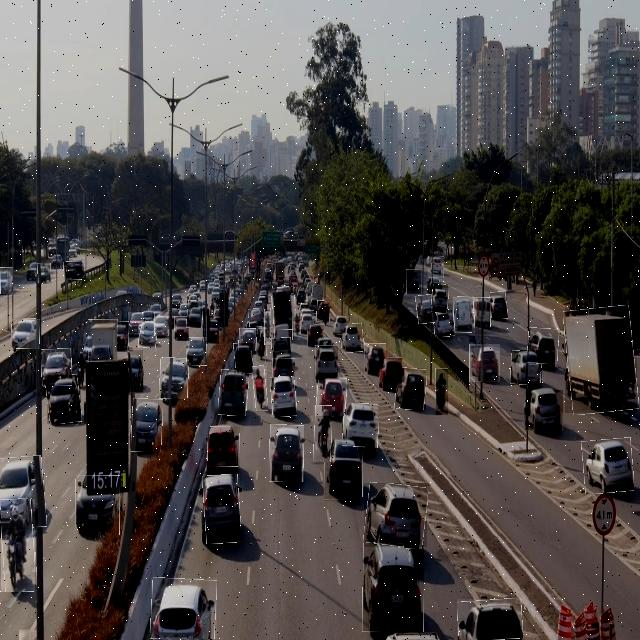Car: (363, 541, 424, 632), (364, 483, 427, 548), (151, 578, 217, 640), (0, 456, 45, 528), (582, 438, 633, 493), (76, 475, 120, 538), (457, 599, 522, 640), (203, 474, 240, 544), (324, 439, 363, 502), (270, 425, 304, 482), (47, 375, 81, 424), (525, 389, 563, 431), (132, 399, 162, 452), (343, 403, 378, 448), (220, 369, 248, 416), (208, 426, 240, 467), (395, 368, 426, 409), (316, 377, 347, 416), (160, 358, 189, 399), (469, 344, 500, 382), (528, 327, 559, 364), (42, 349, 72, 386), (511, 350, 542, 385), (270, 287, 295, 329), (271, 377, 297, 417), (12, 319, 40, 349), (315, 345, 338, 380), (453, 297, 475, 333), (364, 343, 386, 376), (379, 357, 402, 388), (340, 324, 364, 352), (416, 294, 437, 324), (129, 349, 143, 392), (234, 343, 253, 374), (187, 337, 207, 366), (473, 297, 491, 328), (434, 311, 455, 337), (272, 358, 295, 381), (138, 322, 156, 348), (432, 284, 448, 313), (490, 292, 507, 319), (115, 321, 129, 352), (187, 301, 202, 328), (272, 338, 291, 359), (239, 328, 256, 351), (406, 269, 421, 294), (174, 316, 189, 341), (206, 316, 219, 344), (154, 312, 169, 336), (307, 324, 324, 345), (428, 256, 444, 278), (333, 316, 349, 338), (128, 312, 144, 334), (0, 267, 13, 294), (248, 308, 266, 327), (64, 262, 83, 280), (274, 325, 291, 345), (317, 301, 330, 322), (300, 310, 314, 329), (38, 263, 51, 283)
Motorcycle: (2, 499, 36, 592), (313, 405, 332, 462), (253, 366, 267, 411), (435, 368, 448, 415), (256, 329, 267, 363), (292, 310, 301, 340), (264, 311, 271, 345)
Truck: (565, 307, 637, 413), (88, 319, 118, 362), (273, 288, 296, 330)
